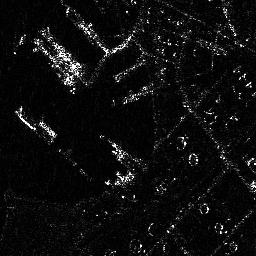ship: (30, 37, 80, 93), (108, 84, 153, 105), (99, 133, 127, 162)
